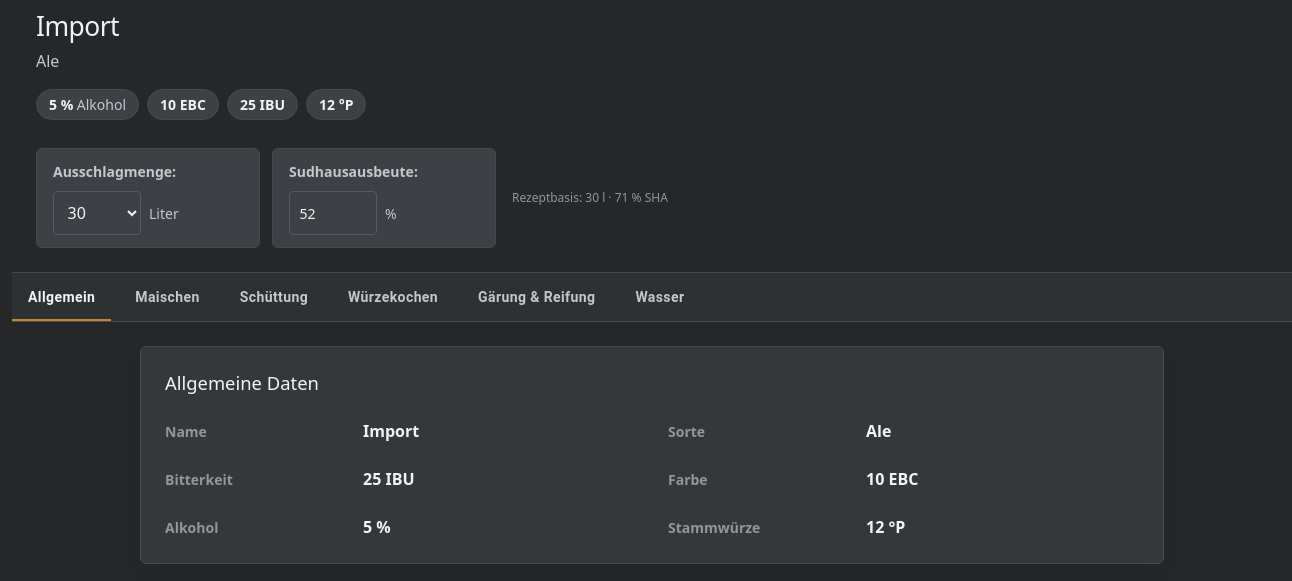
displays the recipe malt name when no ingredient master data is loaded
This screenshot has width=1292, height=581.
Step 1. Click the tab "Schüttung" → (274, 297), box x1=224 y1=273 x2=324 y2=321
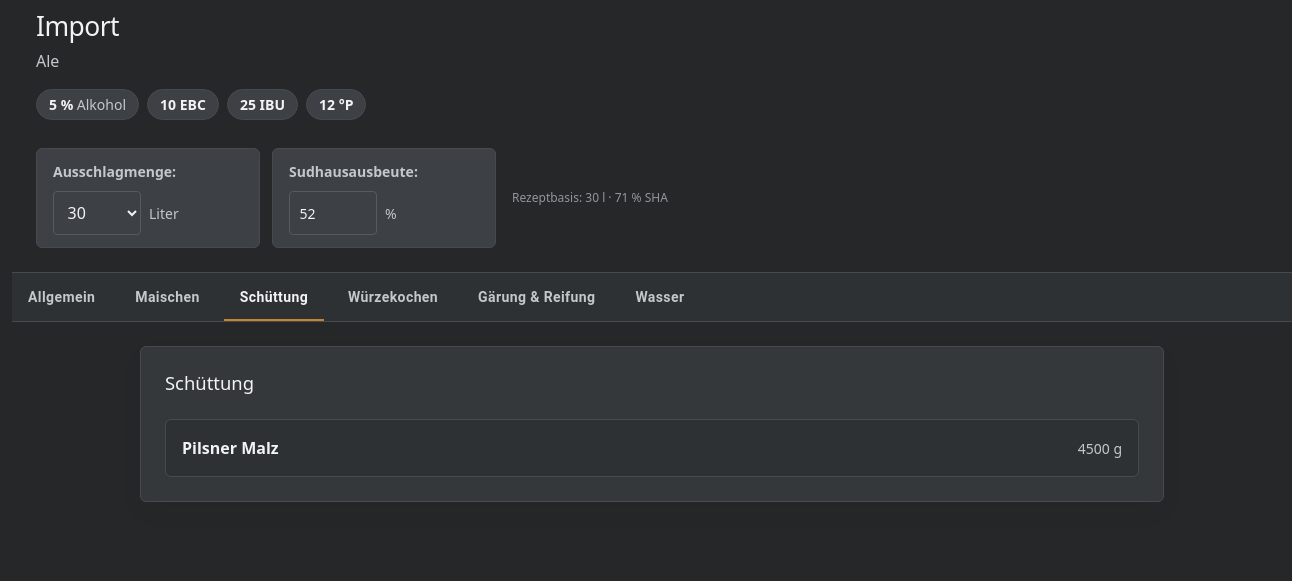
Check: the text "Pilsner Malz" is shown, box x1=182 y1=436 x2=279 y2=460
